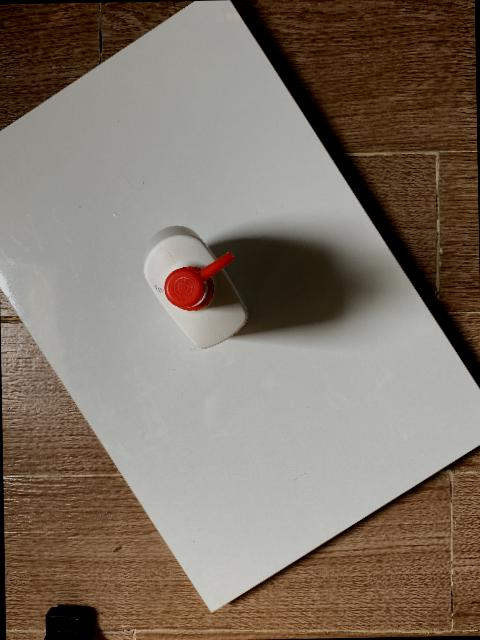life-buoy: (143, 226, 248, 349)
